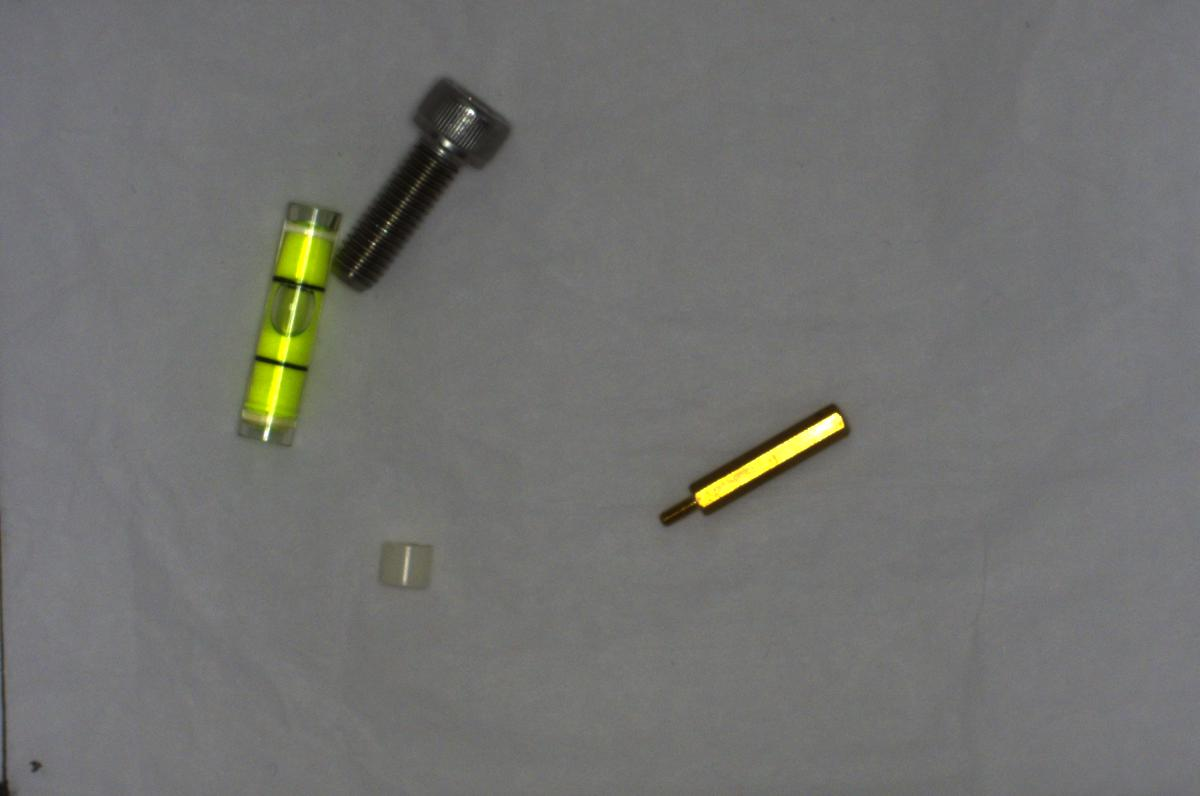Hexagon pillar: (658, 398, 854, 527)
Hexagon screw: (327, 73, 512, 299)
Horizontal bubble: (225, 192, 338, 448)
Plastic cushion pillar: (372, 532, 438, 599)
